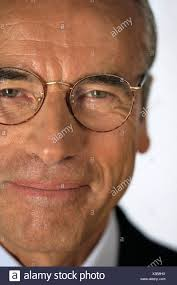Glasses: (1, 64, 138, 137)
